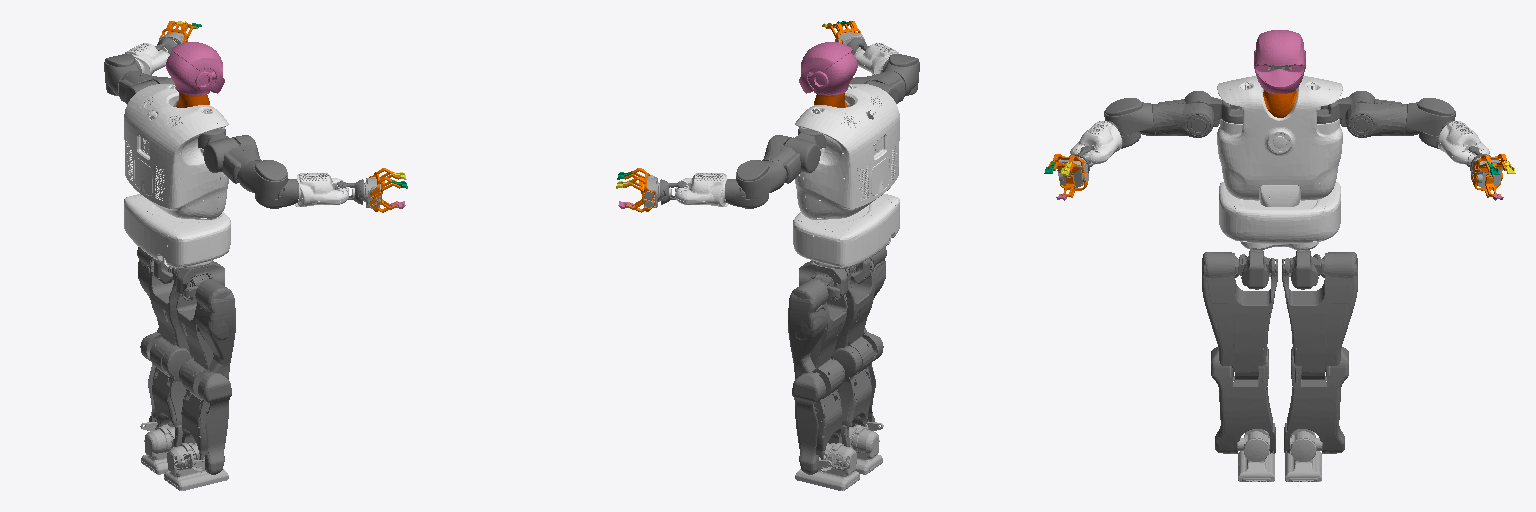
--- What the picture shows (computed from the rendered views, not written in the file) ---
The picture shows the robot from 3 angles, left to right: view 1: azimuth 30°, elevation 25°; view 2: azimuth 150°, elevation 25°; view 3: azimuth 270°, elevation 25°; orthographic projection.
Model talos_simplified with 69 links and 68 joints (30 revolute, 37 fixed, 1 floating), rooted at world, posed all joints at 0 but 4 set to mid-range because 0 is outside their limits (arm_left_2_joint = 1.44, arm_left_4_joint = -1.12, arm_right_2_joint = -1.44, arm_right_4_joint = -1.12).
Links seen in each view (by area): view 1: torso_2_link, base_link, leg_right_3_link, leg_right_4_link, leg_left_4_link, leg_left_3_link, head_2_link, leg_right_6_link, arm_right_3_link, arm_right_5_link, arm_right_1_link, leg_left_6_link (+6 smaller); view 2: torso_2_link, base_link, leg_left_3_link, leg_left_4_link, leg_right_4_link, leg_right_3_link, head_2_link, leg_left_6_link, arm_left_3_link, arm_left_5_link, arm_left_1_link, leg_right_6_link (+6 smaller); view 3: torso_2_link, leg_right_3_link, leg_left_3_link, base_link, leg_left_4_link, leg_right_4_link, head_2_link, arm_left_2_link, arm_right_2_link, arm_left_3_link, arm_right_3_link, leg_left_6_link (+9 smaller).
Link boxes in pixels (left/top/right/bottom): torso_2_link: left=124, top=84, right=228, bottom=219; base_link: left=124, top=194, right=230, bottom=268; leg_right_3_link: left=176, top=279, right=235, bottom=398; leg_right_4_link: left=179, top=358, right=231, bottom=474; leg_left_4_link: left=140, top=332, right=192, bottom=446; leg_left_3_link: left=137, top=247, right=189, bottom=374; head_2_link: left=166, top=42, right=224, bottom=95; leg_right_6_link: left=164, top=443, right=228, bottom=490; arm_right_3_link: left=239, top=160, right=287, bottom=199; arm_right_5_link: left=295, top=173, right=348, bottom=206; arm_right_1_link: left=198, top=129, right=238, bottom=172; leg_left_6_link: left=141, top=426, right=171, bottom=474; torso_2_link: left=795, top=84, right=899, bottom=219; base_link: left=793, top=194, right=899, bottom=268; leg_left_3_link: left=788, top=279, right=847, bottom=398; leg_left_4_link: left=792, top=358, right=844, bottom=474; leg_right_4_link: left=831, top=332, right=883, bottom=446; leg_right_3_link: left=835, top=247, right=886, bottom=374; head_2_link: left=799, top=42, right=857, bottom=95; leg_left_6_link: left=795, top=443, right=859, bottom=490; arm_left_3_link: left=736, top=160, right=784, bottom=198; arm_left_5_link: left=675, top=173, right=728, bottom=206; arm_left_1_link: left=785, top=129, right=825, bottom=172; leg_right_6_link: left=852, top=426, right=882, bottom=474; torso_2_link: left=1217, top=76, right=1342, bottom=200; leg_right_3_link: left=1202, top=252, right=1277, bottom=379; leg_left_3_link: left=1282, top=252, right=1357, bottom=379; base_link: left=1219, top=182, right=1340, bottom=250; leg_left_4_link: left=1284, top=347, right=1348, bottom=453; leg_right_4_link: left=1211, top=347, right=1275, bottom=453; head_2_link: left=1254, top=30, right=1305, bottom=93; arm_left_2_link: left=1345, top=99, right=1406, bottom=137; arm_right_2_link: left=1153, top=99, right=1214, bottom=137; arm_left_3_link: left=1404, top=98, right=1455, bottom=135; arm_right_3_link: left=1104, top=98, right=1155, bottom=135; leg_left_6_link: left=1285, top=429, right=1321, bottom=481.
Size in the robot's own frame: 0.7079 by 1.7 by 1.76 metres.
48 mesh visuals loaded from 25 distinct referenced files (25 Collada DAE).

The robot description file, URDF, robot "talos_simplified":
<?xml version="1.0" ?>
<!-- =================================================================================== -->
<!-- |    This document was autogenerated by xacro from talos_full_no_grippers.urdf.xacro | -->
<!-- |    EDITING THIS FILE BY HAND IS NOT RECOMMENDED                                 | -->
<!-- =================================================================================== -->
<!--

  Copyright (c) 2016, PAL Robotics, S.L.
  All rights reserved.

  This work is licensed under the Creative Commons Attribution-NonCommercial-NoDerivs 3.0 Unported License.
  To view a copy of this license, visit http://creativecommons.org/licenses/by-nc-nd/3.0/ or send a letter to
  Creative Commons, 444 Castro Street, Suite 900, Mountain View, California, 94041, USA.
-->
<robot name="talos_simplified" xmlns:controller="http://playerstage.sourceforge.net/gazebo/xmlschema/#controller" xmlns:interface="http://playerstage.sourceforge.net/gazebo/xmlschema/#interface" xmlns:sensor="http://playerstage.sourceforge.net/gazebo/xmlschema/#sensor" xmlns:xacro="http://ros.org/wiki/xacro">

  <link name="world"/>
  <joint name="reference" type="floating">
    <parent link="world"/>
    <child link="base_link"/>
    <origin rpy="0 0 0" xyz="0 0 0"/>
  </joint>
  <!--************************-->
  <!--        TORSO_2  (TILT) -->
  <!--************************-->
  <link name="torso_2_link">
    <inertial>
      <mass value="16.97403"/>
      <inertia ixx="0.44372633826" ixy="0.00069132133" ixz="-0.01218206353" iyy="0.2998576068" iyz="-0.00019623338" izz="0.32201554742"/>
      <origin rpy="0 0 0" xyz="-0.0463563 -0.00099023 0.1452805"/>
    </inertial>
    <visual>
      <origin rpy="0 0 0" xyz="0 0 0"/>
      <geometry>
        <mesh filename="package://talos_description/meshes/torso/torso_2.dae" scale="1 1 1"/>
      </geometry>
      <material name="LightGrey"/>
    </visual>
    <collision>
      <origin rpy="0 0 0" xyz="0 0 0"/>
      <geometry>
        <mesh filename="package://talos_description/meshes/torso/torso_2_collision.dae" scale="1 1 1"/>
      </geometry>
    </collision>
  </link>
  <!--************************-->
  <!--        TORSO_1  (PAN)  -->
  <!--************************-->
  <link name="torso_1_link">
    <inertial>
      <mass value="2.294658"/>
      <inertia ixx="0.00638508087" ixy="-7.107e-08" ixz="-3.065592e-05" iyy="0.00410256102" iyz="-1.46946e-06" izz="0.00622968815"/>
      <origin rpy="0 0 0" xyz="0.00078223 3.528e-05 -0.01782457"/>
    </inertial>
    <visual>
      <origin rpy="0 0 0" xyz="0 0 0"/>
      <geometry>
        <mesh filename="package://talos_description/meshes/torso/torso_1.dae" scale="1 1 1"/>
      </geometry>
      <material name="LightGrey"/>
    </visual>
    <collision>
      <origin rpy="0 0 0" xyz="0 0 0"/>
      <geometry>
        <mesh filename="package://talos_description/meshes/torso/torso_1.dae" scale="1 1 1"/>
      </geometry>
    </collision>
  </link>
  <joint name="torso_1_joint" type="revolute">
    <parent link="base_link"/>
    <child link="torso_1_link"/>
    <!-- XXX AS: The kinematic chain order for the torso was reversed manually. This value does not match the CAD model. XXX -->
    <origin rpy="0.0 0.0 0.0" xyz="0.0 0.0 0.0722"/>
    <axis xyz="0 0 1"/>
    <limit effort="200.0" lower="-1.25663706144" upper="1.25663706144" velocity="5.4"/>
    <dynamics damping="1.0" friction="1.0"/>
    <!-- <safety_controller k_position="20"
                         k_velocity="20"
                         soft_lower_limit="${-15.0 * deg_to_rad + torso_eps}"
                         soft_upper_limit="${ 45.0 * deg_to_rad - torso_eps}" /> -->
  </joint>
  <!--************************-->
  <!--        BASE_LINK       -->
  <!--************************-->
  <link name="base_link">
    <inertial>
      <mass value="15.36284"/>
      <inertia ixx="0.20105075811" ixy="0.00023244734" ixz="0.0040167728" iyy="0.08411496729" iyz="-0.00087206649" izz="0.2318908414"/>
      <origin rpy="0 0 0" xyz="-0.05709419 0.00153054 -0.0762521"/>
    </inertial>
    <visual>
      <origin rpy="0 0 0" xyz="0 0 0"/>
      <geometry>
        <mesh filename="package://talos_description/meshes/torso/base_link.dae" scale="1 1 1"/>
      </geometry>
      <material name="LightGrey"/>
    </visual>
    <collision>
      <origin rpy="0 0 0" xyz="0 0 0"/>
      <geometry>
        <mesh filename="package://talos_description/meshes/torso/base_link_collision.dae" scale="1 1 1"/>
      </geometry>
    </collision>
  </link>
  <joint name="torso_2_joint" type="revolute">
    <parent link="torso_1_link"/>
    <child link="torso_2_link"/>
    <origin rpy="0.0 0.0 0.0" xyz="0.0 0.0 0.0"/>
    <axis xyz="0 1 0"/>
    <limit effort="200.0" lower="-0.226892802759" upper="0.733038285838" velocity="5.4"/>
    <dynamics damping="1.0" friction="1.0"/>
    <!-- <safety_controller k_position="20"
                          k_velocity="20"
                          soft_lower_limit="${-75.00000 * deg_to_rad + eps_radians}"
                          soft_upper_limit="${75.00000 * deg_to_rad - eps_radians}" /> -->
  </joint>
  <link name="imu_link">
    <inertial>
      <mass value="0.01"/>
      <inertia ixx="1e-06" ixy="0" ixz="0" iyy="1e-06" iyz="0" izz="1e-06"/>
      <origin rpy="0 0 0" xyz="0 0 0"/>
    </inertial>
    <visual>
      <origin rpy="0 0 0" xyz="0 0 0"/>
      <geometry>
        <box size="0.01 0.01 0.01"/>
      </geometry>
    </visual>
  </link>
  <joint name="imu_joint" type="fixed">
    <origin rpy="3.14159265359 0 1.57079632679" xyz="0.04925 0 0.078"/>
    <parent link="torso_2_link"/>
    <child link="imu_link"/>
  </joint>






  <link name="head_1_link">
    <inertial>
      <mass value="0.73746"/>
      <inertia ixx="0.00224878584" ixy="4.69375e-06" ixz="8.55557e-05" iyy="0.00111158492" iyz="-4.132536e-05" izz="0.00205225921"/>
      <origin rpy="0 0 0" xyz="-0.00157211 -0.00157919 0.02175767"/>
    </inertial>
    <visual>
      <origin rpy="0 0 0" xyz="0 0 0"/>
      <geometry>
        <mesh filename="package://talos_description/meshes/head/head_1.dae" scale="1 1 1"/>
      </geometry>
      <color rgba="0.8 0.0 0.0 1.0"/>
    </visual>
    <collision>
      <origin rpy="0 0 0" xyz="0 0 0"/>
      <geometry>
        <mesh filename="package://talos_description/meshes/head/head_1_collision.dae" scale="1 1 1"/>
      </geometry>
    </collision>
  </link>
  <joint name="head_1_joint" type="revolute">
    <parent link="torso_2_link"/>
    <child link="head_1_link"/>
    <origin rpy="0.0 0.0 0.0" xyz="0.02000 0.00000 0.32100"/>
    <axis xyz="0 1 0"/>
    <limit effort="8.0" lower="-0.209439510239" upper="0.785398163397" velocity="3.0"/>
    <dynamics damping="0.5" friction="1.0"/>
    <!-- <safety_controller k_position="20"
                          k_velocity="20"
                          soft_lower_limit="${-15.00000 * deg_to_rad + eps_radians}"
                          soft_upper_limit="${45.00000 * deg_to_rad - eps_radians}" /> -->
  </joint>



  <link name="head_2_link">
    <inertial>
      <mass value="1.443954"/>
      <inertia ixx="0.01084624339" ixy="1.050889e-05" ixz="0.00041594252" iyy="0.0109569176" iyz="2.367831e-05" izz="0.00571698895"/>
      <origin rpy="0 0 0" xyz="0.01002657 5.218e-05 0.14136068"/>
    </inertial>
    <visual>
      <origin rpy="0 0 0" xyz="0 0 0"/>
      <geometry>
        <mesh filename="package://talos_description/meshes/head/head_2.dae" scale="1 1 1"/>
      </geometry>
      <color rgba="0.8 0.0 0.0 1.0"/>
    </visual>
    <collision>
      <origin rpy="0 0 0" xyz="0 0 0"/>
      <geometry>
        <mesh filename="package://talos_description/meshes/head/head_2_collision.dae" scale="1 1 1"/>
      </geometry>
    </collision>
  </link>
  <joint name="head_2_joint" type="revolute">
    <parent link="head_1_link"/>
    <child link="head_2_link"/>
    <origin rpy="0.0 0.0 0.0" xyz="0.00000 0.00000 0.00000"/>
    <axis xyz="0 0 1"/>
    <limit effort="4.0" lower="-1.308996939" upper="1.308996939" velocity="3.0"/>
    <dynamics damping="0.5" friction="1.0"/>
    <!-- <safety_controller k_position="20"
                          k_velocity="20"
                          soft_lower_limit="${-75.00000 * deg_to_rad + eps_radians}"
                          soft_upper_limit="${75.00000 * deg_to_rad - eps_radians}" /> -->
  </joint>



  <!-- frames in the center of the camera -->
  <joint name="rgbd_joint" type="fixed">
    <origin rpy="0.0 0.0 0.0" xyz="0.066 0.0 0.1982"/>
    <axis xyz="0 0 1"/>
    <!-- <limit lower="0" upper="0.001" effort="100" velocity="0.01"/> -->
    <parent link="head_2_link"/>
    <child link="rgbd_link"/>
  </joint>
  <link name="rgbd_link">
    <inertial>
      <mass value="0.01"/>
      <inertia ixx="3e-05" ixy="0" ixz="0" iyy="2e-06" iyz="0" izz="3e-05"/>
      <origin rpy="0 0 0" xyz="-0.01 0.0025 0"/>
    </inertial>
    <visual>
      <origin rpy="0 0 0" xyz="0 0 0"/>
      <geometry>
        <mesh filename="package://talos_description/meshes/sensors/orbbec/orbbec.dae"/>
      </geometry>
      <material name="DarkGrey">
        <color rgba="0.5 0.5 0.5 1"/>
      </material>
    </visual>
    <collision>
      <origin rpy="0 0 0" xyz="-0.01 0.0025 0"/>
      <geometry>
        <box size="0.04 0.185 0.03"/>
      </geometry>
    </collision>
  </link>
  <joint name="rgbd_optical_joint" type="fixed">
    <origin rpy="-1.57079632679 0 -1.57079632679" xyz="0 0 0"/>
    <parent link="rgbd_link"/>
    <child link="rgbd_optical_frame"/>
  </joint>
  <link name="rgbd_optical_frame">
    <inertial>
      <mass value="0.01"/>
      <inertia ixx="0" ixy="0" ixz="0" iyy="0" iyz="0" izz="0"/>
      <origin rpy="0 0 0" xyz="0 0 0"/>
    </inertial>
  </link>
  <!-- frames of the depth sensor -->
  <joint name="rgbd_depth_joint" type="fixed">
    <origin rpy="0 0 0" xyz="0.0 0.03751 0.0"/>
    <parent link="rgbd_link"/>
    <child link="rgbd_depth_frame"/>
  </joint>
  <link name="rgbd_depth_frame"/>
  <joint name="rgbd_depth_optical_joint" type="fixed">
    <origin rpy="-1.57079632679 0.0 -1.57079632679" xyz="0 0 0"/>
    <parent link="rgbd_depth_frame"/>
    <child link="rgbd_depth_optical_frame"/>
  </joint>
  <link name="rgbd_depth_optical_frame"/>
  <!-- frames of the rgb sensor -->
  <joint name="rgbd_rgb_joint" type="fixed">
    <origin rpy="0 0 0" xyz="0.0 0.01251 0.0"/>
    <parent link="rgbd_link"/>
    <child link="rgbd_rgb_frame"/>
  </joint>
  <link name="rgbd_rgb_frame"/>
  <joint name="rgbd_rgb_optical_joint" type="fixed">
    <origin rpy="-1.57079632679 0.0 -1.57079632679" xyz="0 0 0"/>
    <parent link="rgbd_rgb_frame"/>
    <child link="rgbd_rgb_optical_frame"/>
  </joint>
  <link name="rgbd_rgb_optical_frame"/>


  <!--************************-->
  <!--        SHOULDER        -->
  <!--************************-->
  <link name="arm_left_1_link">
    <inertial>
      <mass value="2.714567"/>
      <inertia ixx="0.01237818683" ixy="-3.625571e-05" ixz="7.14472e-05" iyy="0.004191372" iyz="-0.00023639064" izz="0.01358161109"/>
      <origin rpy="0 0 0" xyz="-0.0002762 0.10060223 0.04437419"/>
    </inertial>
    <visual>
      <origin rpy="0 0 0" xyz="0 0 0"/>
      <geometry>
        <mesh filename="package://talos_description/meshes/arm/arm_1.dae" scale="1 1 1"/>
      </geometry>
      <material name="DarkGrey"/>
    </visual>
    <collision>
      <origin rpy="0 0 0" xyz="0 0 0"/>
      <geometry>
        <mesh filename="package://talos_description/meshes/arm/arm_1_collision.dae" scale="1 1 1"/>
      </geometry>
    </collision>
  </link>
  <joint name="arm_left_1_joint" type="revolute">
    <parent link="torso_2_link"/>
    <child link="arm_left_1_link"/>
    <origin rpy="0.0 0.0 0.0" xyz="0.00000 0.1575 0.23200"/>
    <axis xyz="0 0 1"/>
    <!-- v1 TALOS has 1st arm left joint (-90,30) and right joint (-30,90) -->
    <!-- v2 TALOS has 1st arm left joint (-90,50) and right joint (-50,90) -->
    <limit effort="100.0" lower="-1.57079632679" upper="0.785398163397" velocity="2.7"/>
    <dynamics damping="1.0" friction="1.0"/>
    <!--        <safety_controller k_position="20"
                          k_velocity="20"
                          soft_lower_limit="${-90.00000 * deg_to_rad + arm_eps}"
                          soft_upper_limit="${30.00000 * deg_to_rad - arm_eps}" /> -->
  </joint>
  <link name="arm_left_2_link">
    <inertial>
      <mass value="2.425086"/>
      <inertia ixx="0.01297822101" ixy="1.208791e-05" ixz="-0.00320370433" iyy="0.01380870278" iyz="-0.00012770059" izz="0.00478856621"/>
      <origin rpy="0 0 0" xyz="0.01438831 0.00092938 -0.08684268"/>
    </inertial>
    <visual>
      <origin rpy="0 0 0" xyz="0 0 0"/>
      <geometry>
        <mesh filename="package://talos_description/meshes/arm/arm_2.dae" scale="1 1 1"/>
      </geometry>
      <material name="DarkGrey"/>
    </visual>
    <collision>
      <origin rpy="0 0 0" xyz="0 0 0"/>
      <geometry>
        <mesh filename="package://talos_description/meshes/arm/arm_2_collision.dae" scale="1 1 1"/>
      </geometry>
    </collision>
  </link>
  <joint name="arm_left_2_joint" type="revolute">
    <parent link="arm_left_1_link"/>
    <child link="arm_left_2_link"/>
    <origin rpy="0.0 0.0 0.0" xyz="0.00493 0.1365 0.04673"/>
    <axis xyz="1 0 0"/>
    <limit effort="100.0" lower="0.00872664625997" upper="2.87106661953" velocity="3.66"/>
    <dynamics damping="1.0" friction="1.0"/>
    <!--        <safety_controller k_position="20"
                          k_velocity="20"
                          soft_lower_limit="${0.00000 * deg_to_rad + arm_eps}"
                          soft_upper_limit="${165.00000 * deg_to_rad - arm_eps}" /> -->
  </joint>
  <link name="arm_left_3_link">
    <inertial>
      <mass value="2.208741"/>
      <inertia ixx="0.00718831493" ixy="-0.00011563551" ixz="0.00075969733" iyy="0.00693528503" iyz="0.00042134743" izz="0.00388359007"/>
      <origin rpy="0 0 0" xyz="0.0136084 0.01241619 -0.2499004"/>
    </inertial>
    <visual>
      <origin rpy="0 0 0" xyz="0 0 0"/>
      <geometry>
        <mesh filename="package://talos_description/meshes/arm/arm_3.dae" scale="1 1 1"/>
      </geometry>
      <material name="DarkGrey"/>
    </visual>
    <collision>
      <origin rpy="0 0 0" xyz="0 0 0"/>
      <geometry>
        <mesh filename="package://talos_description/meshes/arm/arm_3_collision.dae" scale="1 1 1"/>
      </geometry>
    </collision>
  </link>
  <joint name="arm_left_3_joint" type="revolute">
    <parent link="arm_left_2_link"/>
    <child link="arm_left_3_link"/>
    <origin rpy="0.0 0.0 0.0" xyz="0.00000 0.00000 0.00000"/>
    <axis xyz="0 0 1"/>
    <limit effort="70.0" lower="-2.42600766027" upper="2.42600766027" velocity="4.58"/>
    <dynamics damping="1.0" friction="1.0"/>
    <!--       <safety_controller k_position="20"
                          k_velocity="20"
                          soft_lower_limit="${-140.0 * deg_to_rad + arm_eps}"
                          soft_upper_limit="${140.0 * deg_to_rad - arm_eps}" /> -->
  </joint>
  <!--************************-->
  <!--        ELBOW           -->
  <!--************************-->
  <link name="arm_left_4_link">
    <inertial>
      <mass value="0.877346"/>
      <inertia ixx="0.00251207716" ixy="0.00010070062" ixz="-0.00032788214" iyy="0.00275869324" iyz="0.00040022227" izz="0.00120735959"/>
      <origin rpy="0 0 0" xyz="-0.00742138 -0.0213895 -0.03312656"/>
    </inertial>
    <visual>
      <origin rpy="0 0 0" xyz="0 0 0"/>
      <geometry>
        <mesh filename="package://talos_description/meshes/arm/arm_4.dae" scale="1 1 1"/>
      </geometry>
      <material name="DarkGrey"/>
    </visual>
    <collision>
      <origin rpy="0 0 0" xyz="0 0 0"/>
      <geometry>
        <mesh filename="package://talos_description/meshes/arm/arm_4_collision.dae" scale="1 1 1"/>
      </geometry>
    </collision>
  </link>
  <joint name="arm_left_4_joint" type="revolute">
    <parent link="arm_left_3_link"/>
    <child link="arm_left_4_link"/>
    <origin rpy="0.0 0.0 0.0" xyz="0.02000 0.00000 -0.27300"/>
    <axis xyz="0 1 0"/>
    <limit effort="70.0" lower="-2.23402144255" upper="-0.00349065850399" velocity="4.58"/>
    <dynamics damping="1.0" friction="1.0"/>
    <!--       <safety_controller k_position="20"
                          k_velocity="20"
                          soft_lower_limit="${-135.0 * deg_to_rad + arm_eps}"
                          soft_upper_limit="${0.0 * deg_to_rad - arm_eps}" /> -->
  </joint>








  <!--************************-->
  <!--        WRIST           -->
  <!--************************-->
  <link name="arm_left_5_link">
    <inertial>
      <mass value="1.877923"/>
      <inertia ixx="0.00349507283" ixy="1.265489e-05" ixz="1.038286e-05" iyy="0.00436830072" iyz="-9.736042e-05" izz="0.0022826337"/>
      <origin rpy="0 0 0" xyz="-6e-05 0.003262 0.079625"/>
    </inertial>
    <visual>
      <origin rpy="0 0 0" xyz="0 0 0"/>
      <geometry>
        <mesh filename="package://talos_description/meshes/arm/arm_5.dae" scale="1 1 1"/>
      </geometry>
      <material name="LightGrey"/>
    </visual>
    <collision>
      <origin rpy="0 0 0" xyz="0 0 0"/>
      <geometry>
        <mesh filename="package://talos_description/meshes/arm/arm_5_collision.dae" scale="1 1 1"/>
      </geometry>
    </collision>
  </link>
  <joint name="arm_left_5_joint" type="revolute">
    <parent link="arm_left_4_link"/>
    <child link="arm_left_5_link"/>
    <origin rpy="0.0 0.0 0.0" xyz="-0.02000 0.00000 -0.26430"/>
    <axis xyz="0 0 1"/>
    <limit effort="20.0" lower="-2.51327412287" upper="2.51327412287" velocity="1.95"/>
    <dynamics damping="1.0" friction="1.0"/>
    <!--       <safety_controller k_position="20"
                          k_velocity="20"
                          soft_lower_limit="${-145.00000 * deg_to_rad + wrist_eps}"
                          soft_upper_limit="${145.00000 * deg_to_rad - wrist_eps}" /> -->
  </joint>
  <link name="arm_left_6_link">
    <inertial>
      <mass value="0.40931"/>
      <inertia ixx="0.00010700023" ixy="-8.899e-08" ixz="-4.392e-08" iyy="0.00014101316" iyz="4.1702e-07" izz="0.00015398658"/>
      <origin rpy="0 0 0" xyz="2.1e-05 -0.001965 -0.000591"/>
    </inertial>
    <visual>
      <origin rpy="0 0 0" xyz="0 0 0"/>
      <geometry>
        <mesh filename="package://talos_description/meshes/arm/arm_6.dae" scale="1 1 1"/>
      </geometry>
      <material name="LightGrey"/>
    </visual>
    <collision>
      <origin rpy="0 0 0" xyz="0 0 0"/>
      <geometry>
        <mesh filename="package://talos_description/meshes/arm/arm_6_collision.dae" scale="1 1 1"/>
      </geometry>
    </collision>
  </link>
  <joint name="arm_left_6_joint" type="revolute">
    <parent link="arm_left_5_link"/>
    <child link="arm_left_6_link"/>
    <origin rpy="0.0 0.0 0.0" xyz="0.00000 0.00000 0.00000"/>
    <axis xyz="1 0 0"/>
    <limit effort="8.0" lower="-1.37008346282" upper="1.37008346282" velocity="1.76"/>
    <dynamics damping="1.0" friction="1.0"/>
    <!--       <safety_controller k_position="20"
                          k_velocity="20"
                          soft_lower_limit="${-80.00000 * deg_to_rad + eps_radians}"
                          soft_upper_limit="${80.00000 * deg_to_rad - eps_radians}" /> -->
  </joint>
  <link name="arm_left_7_link">
    <inertial>
      <mass value="0.308441"/>
      <inertia ixx="0.00030894317" ixy="-1.58687e-06" ixz="1.73418e-06" iyy="0.00021886181" iyz="-1.221167e-05" izz="0.00017519492"/>
      <origin rpy="0 0 0" xyz="0.007525 0.001378 -0.02463"/>
    </inertial>
    <visual>
      <origin rpy="0 0 0" xyz="0 0 0"/>
      <geometry>
        <mesh filename="package://talos_description/meshes/arm/arm_7.dae" scale="1 1 1"/>
      </geometry>
      <material name="DarkGrey"/>
    </visual>
    <collision>
      <origin rpy="0 0 0" xyz="0 0 0"/>
      <geometry>
        <mesh filename="package://talos_description/meshes/arm/arm_7_collision.dae" scale="1 1 1"/>
      </geometry>
    </collision>
  </link>
  <joint name="arm_left_7_joint" type="revolute">
    <parent link="arm_left_6_link"/>
    <child link="arm_left_7_link"/>
    <origin rpy="0.0 0.0 0.0" xyz="0.0 0.0 0.0"/>
    <axis xyz="0 1 0"/>
    <limit effort="8.0" lower="-0.680678408278" upper="0.680678408278" velocity="1.76"/>
    <dynamics damping="1.0" friction="1.0"/>
    <!--       <safety_controller k_position="20"
                          k_velocity="20"
                          soft_lower_limit="${-40.00000 * deg_to_rad + eps_radians}"
                          soft_upper_limit="${40.00000 * deg_to_rad - eps_radians}" /> -->
  </joint>












  <!--************************-->
  <!--        SHOULDER        -->
  <!--************************-->
  <link name="arm_right_1_link">
    <inertial>
      <mass value="2.714567"/>
      <inertia ixx="0.01237818683" ixy="3.625571e-05" ixz="7.14472e-05" iyy="0.004191372" iyz="0.00023639064" izz="0.01358161109"/>
      <origin rpy="0 0 0" xyz="-0.0002762 -0.10060223 0.04437419"/>
    </inertial>
    <visual>
      <origin rpy="0 0 0" xyz="0 0 0"/>
      <geometry>
        <mesh filename="package://talos_description/meshes/arm/arm_1.dae" scale="1 -1 1"/>
      </geometry>
      <material name="DarkGrey"/>
    </visual>
    <collision>
      <origin rpy="0 0 0" xyz="0 0 0"/>
      <geometry>
        <mesh filename="package://talos_description/meshes/arm/arm_1_collision.dae" scale="1 -1 1"/>
      </geometry>
    </collision>
  </link>
  <joint name="arm_right_1_joint" type="revolute">
    <parent link="torso_2_link"/>
    <child link="arm_right_1_link"/>
    <origin rpy="0.0 0.0 0.0" xyz="0.00000 -0.1575 0.23200"/>
    <axis xyz="0 0 1"/>
    <!-- v1 TALOS has 1st arm left joint (-90,30) and right joint (-30,90) -->
    <!-- v2 TALOS has 1st arm left joint (-90,50) and right joint (-50,90) -->
    <limit effort="100.0" lower="-0.785398163397" upper="1.57079632679" velocity="2.7"/>
    <dynamics damping="1.0" friction="1.0"/>
    <!--        <safety_controller k_position="20"
                          k_velocity="20"
                          soft_lower_limit="${-90.00000 * deg_to_rad + arm_eps}"
                          soft_upper_limit="${30.00000 * deg_to_rad - arm_eps}" /> -->
  </joint>
  <link name="arm_right_2_link">
    <inertial>
      <mass value="2.425086"/>
      <inertia ixx="0.01297822101" ixy="-1.208791e-05" ixz="-0.00320370433" iyy="0.01380870278" iyz="0.00012770059" izz="0.00478856621"/>
      <origin rpy="0 0 0" xyz="0.01438831 -0.00092938 -0.08684268"/>
    </inertial>
    <visual>
      <origin rpy="0 0 0" xyz="0 0 0"/>
      <geometry>
        <mesh filename="package://talos_description/meshes/arm/arm_2.dae" scale="1 -1 1"/>
      </geometry>
      <material name="DarkGrey"/>
    </visual>
    <collision>
      <origin rpy="0 0 0" xyz="0 0 0"/>
      <geometry>
        <mesh filename="package://talos_description/meshes/arm/arm_2_collision.dae" scale="1 -1 1"/>
      </geometry>
    </collision>
  </link>
  <joint name="arm_right_2_joint" type="revolute">
    <parent link="arm_right_1_link"/>
    <child link="arm_right_2_link"/>
    <origin rpy="0.0 0.0 0.0" xyz="0.00493 -0.1365 0.04673"/>
    <axis xyz="1 0 0"/>
    <limit effort="100.0" lower="-2.87106661953" upper="-0.00872664625997" velocity="3.66"/>
    <dynamics damping="1.0" friction="1.0"/>
    <!--        <safety_controller k_position="20"
                          k_velocity="20"
                          soft_lower_limit="${0.00000 * deg_to_rad + arm_eps}"
                          soft_upper_limit="${165.00000 * deg_to_rad - arm_eps}" /> -->
  </joint>
  <link name="arm_right_3_link">
    <inertial>
      <mass value="2.208741"/>
      <inertia ixx="0.00718831493" ixy="0.00011563551" ixz="0.00075969733" iyy="0.00693528503" iyz="-0.00042134743" izz="0.00388359007"/>
      <origin rpy="0 0 0" xyz="0.0136084 -0.01241619 -0.2499004"/>
    </inertial>
    <visual>
      <origin rpy="0 0 0" xyz="0 0 0"/>
      <geometry>
        <mesh filename="package://talos_description/meshes/arm/arm_3.dae" scale="1 -1 1"/>
      </geometry>
      <material name="DarkGrey"/>
    </visual>
    <collision>
      <origin rpy="0 0 0" xyz="0 0 0"/>
      <geometry>
        <mesh filename="package://talos_description/meshes/arm/arm_3_collision.dae" scale="1 -1 1"/>
      </geometry>
    </collision>
  </link>
  <joint name="arm_right_3_joint" type="revolute">
    <parent link="arm_right_2_link"/>
    <child link="arm_right_3_link"/>
    <origin rpy="0.0 0.0 0.0" xyz="0.00000 0.00000 0.00000"/>
    <axis xyz="0 0 1"/>
    <limit effort="70.0" lower="-2.42600766027" upper="2.42600766027" velocity="4.58"/>
    <dynamics damping="1.0" friction="1.0"/>
    <!--       <safety_controller k_position="20"
                          k_velocity="20"
                          soft_lower_limit="${-140.0 * deg_to_rad + arm_eps}"
                          soft_upper_limit="${140.0 * deg_to_rad - arm_eps}" /> -->
  </joint>
  <!--************************-->
  <!--        ELBOW           -->
  <!--************************-->
  <link name="arm_right_4_link">
    <inertial>
      <mass value="0.877346"/>
      <inertia ixx="0.00251207716" ixy="-0.00010070062" ixz="-0.00032788214" iyy="0.00275869324" iyz="-0.00040022227" izz="0.00120735959"/>
      <origin rpy="0 0 0" xyz="-0.00742138 0.0213895 -0.03312656"/>
    </inertial>
    <visual>
      <origin rpy="0 0 0" xyz="0 0 0"/>
      <geometry>
        <mesh filename="package://talos_description/meshes/arm/arm_4.dae" scale="1 -1 1"/>
      </geometry>
      <material name="DarkGrey"/>
    </visual>
    <collision>
      <origin rpy="0 0 0" xyz="0 0 0"/>
      <geometry>
        <mesh filename="package://talos_description/meshes/arm/arm_4_collision.dae" scale="1 -1 1"/>
      </geometry>
    </collision>
  </link>
  <joint name="arm_right_4_joint" type="revolute">
    <parent link="arm_right_3_link"/>
    <child link="arm_right_4_link"/>
    <origin rpy="0.0 0.0 0.0" xyz="0.02000 0.00000 -0.27300"/>
    <axis xyz="0 1 0"/>
    <limit effort="70.0" lower="-2.23402144255" upper="-0.00349065850399" velocity="4.58"/>
    <dynamics damping="1.0" friction="1.0"/>
    <!--       <safety_controller k_position="20"
                          k_velocity="20"
                          soft_lower_limit="${-135.0 * deg_to_rad + arm_eps}"
                          soft_upper_limit="${0.0 * deg_to_rad - arm_eps}" /> -->
  </joint>








  <!--************************-->
  <!--        WRIST           -->
  <!--************************-->
  <link name="arm_right_5_link">
    <inertial>
      <mass value="1.877923"/>
      <inertia ixx="0.00349507283" ixy="-1.265489e-05" ixz="1.038286e-05" iyy="0.00436830072" iyz="9.736042e-05" izz="0.0022826337"/>
      <origin rpy="0 0 0" xyz="-6e-05 -0.003262 0.079625"/>
    </inertial>
    <visual>
      <origin rpy="0 0 0" xyz="0 0 0"/>
      <geometry>
        <mesh filename="package://talos_description/meshes/arm/arm_5.dae" scale="1 -1 1"/>
      </geometry>
      <material name="LightGrey"/>
    </visual>
    <collision>
      <origin rpy="0 0 0" xyz="0 0 0"/>
      <geometry>
        <mesh filename="package://talos_description/meshes/arm/arm_5_collision.dae" scale="1 -1 1"/>
      </geometry>
    </collision>
  </link>
  <joint name="arm_right_5_joint" type="revolute">
    <parent link="arm_right_4_link"/>
    <child link="arm_right_5_link"/>
    <origin rpy="0.0 0.0 0.0" xyz="-0.02000 0.00000 -0.26430"/>
    <axis xyz="0 0 1"/>
    <limit effort="20.0" lower="-2.51327412287" upper="2.51327412287" velocity="1.95"/>
    <dynamics damping="1.0" friction="1.0"/>
    <!--       <safety_controller k_position="20"
                          k_velocity="20"
                          soft_lower_limit="${-145.00000 * deg_to_rad + wrist_eps}"
                          soft_upper_limit="${145.00000 * deg_to_rad - wrist_eps}" /> -->
  </joint>
  <link name="arm_right_6_link">
    <inertial>
      <mass value="0.40931"/>
      <inertia ixx="0.00010700023" ixy="8.899e-08" ixz="-4.392e-08" iyy="0.00014101316" iyz="-4.1702e-07" izz="0.00015398658"/>
      <origin rpy="0 0 0" xyz="2.1e-05 0.001965 -0.000591"/>
    </inertial>
    <visual>
      <origin rpy="0 0 0" xyz="0 0 0"/>
      <geometry>
        <mesh filename="package://talos_description/meshes/arm/arm_6.dae" scale="1 -1 1"/>
      </geometry>
      <material name="LightGrey"/>
    </visual>
    <collision>
      <origin rpy="0 0 0" xyz="0 0 0"/>
      <geometry>
        <mesh filename="package://talos_description/meshes/arm/arm_6_collision.dae" scale="1 -1 1"/>
      </geometry>
    </collision>
  </link>
  <joint name="arm_right_6_joint" type="revolute">
    <parent link="arm_right_5_link"/>
    <child link="arm_right_6_link"/>
    <origin rpy="0.0 0.0 0.0" xyz="0.00000 0.00000 0.00000"/>
    <axis xyz="1 0 0"/>
    <limit effort="8.0" lower="-1.37008346282" upper="1.37008346282" velocity="1.76"/>
    <dynamics damping="1.0" friction="1.0"/>
    <!--       <safety_controller k_position="20"
                          k_velocity="20"
                          soft_lower_limit="${-80.00000 * deg_to_rad + eps_radians}"
                          soft_upper_limit="${80.00000 * deg_to_rad - eps_radians}" /> -->
  </joint>
  <link name="arm_right_7_link">
    <inertial>
      <mass value="0.308441"/>
      <inertia ixx="0.00030894317" ixy="1.58687e-06" ixz="1.73418e-06" iyy="0.00021886181" iyz="1.221167e-05" izz="0.00017519492"/>
      <origin rpy="0 0 0" xyz="0.007525 -0.001378 -0.02463"/>
    </inertial>
    <visual>
      <origin rpy="0 0 0" xyz="0 0 0"/>
      <geometry>
        <mesh filename="package://talos_description/meshes/arm/arm_7.dae" scale="1 -1 1"/>
      </geometry>
      <material name="DarkGrey"/>
    </visual>
    <collision>
      <origin rpy="0 0 0" xyz="0 0 0"/>
      <geometry>
        <mesh filename="package://talos_description/meshes/arm/arm_7_collision.dae" scale="1 -1 1"/>
      </geometry>
    </collision>
  </link>
  <joint name="arm_right_7_joint" type="revolute">
    <parent link="arm_right_6_link"/>
    <child link="arm_right_7_link"/>
    <origin rpy="0.0 0.0 0.0" xyz="0.0 0.0 0.0"/>
    <axis xyz="0 1 0"/>
    <limit effort="8.0" lower="-0.680678408278" upper="0.680678408278" velocity="1.76"/>
    <dynamics damping="1.0" friction="1.0"/>
    <!--       <safety_controller k_position="20"
                          k_velocity="20"
                          soft_lower_limit="${-40.00000 * deg_to_rad + eps_radians}"
                          soft_upper_limit="${40.00000 * deg_to_rad - eps_radians}" /> -->
  </joint>












  <!--************************-->
  <!--        ft sensor       -->
  <!--************************-->
  <link name="wrist_right_ft_link">
    <inertial>
      <mass value="0.095"/>
      <inertia ixx="1.108502e-05" ixy="9.9077e-07" ixz="-2.3811e-07" iyy="1.092725e-05" iyz="2.3137e-07" izz="1.898772e-05"/>
      <origin rpy="0 0 0" xyz="-0.001001 0.000995 -0.008108"/>
    </inertial>
    <visual>
      <origin rpy="0 0 0" xyz="0 0 0"/>
      <geometry>
        <cylinder length="0.0157" radius="0.0225"/>
      </geometry>
      <material name="LightGrey"/>
    </visual>
    <collision>
      <origin rpy="0 0 0" xyz="0 0 0"/>
      <geometry>
        <cylinder length="0.0157" radius="0.0225"/>
      </geometry>
    </collision>
  </link>
  <joint name="wrist_right_ft_joint" type="fixed">
    <parent link="arm_right_7_link"/>
    <child link="wrist_right_ft_link"/>
    <origin rpy="0.0 0 -1.57079632679" xyz="0 0 -0.051"/>
  </joint>
  <!--***********************-->
  <!--       FT TOOL         -->
  <!--***********************-->
  <link name="wrist_right_ft_tool_link">
    <inertial>
      <mass value="0.001"/>
      <inertia ixx="0" ixy="0" ixz="0" iyy="0" iyz="0" izz="0"/>
      <origin rpy="0 0 0" xyz="0 0 0"/>
    </inertial>
    <visual>
      <origin rpy="0 0.0 0" xyz="0.0 0 0"/>
      <geometry>
        <cylinder length="0.00975" radius="0.025"/>
      </geometry>
      <material name="FlatBlack"/>
    </visual>
    <collision>
      <origin rpy="0 0.0 0" xyz="0.0 0 0"/>
      <geometry>
        <cylinder length="0.00975" radius="0.025"/>
      </geometry>
    </collision>
  </link>
  <joint name="wrist_right_tool_joint" type="fixed">
    <parent link="wrist_right_ft_link"/>
    <child link="wrist_right_ft_tool_link"/>
    <origin rpy="0 0 -1.57079632679" xyz="0 0 -0.012725"/>
  </joint>
  <!--************************-->
  <!--        ft sensor       -->
  <!--************************-->
  <link name="wrist_left_ft_link">
    <inertial>
      <mass value="0.095"/>
      <inertia ixx="1.108502e-05" ixy="9.9077e-07" ixz="-2.3811e-07" iyy="1.092725e-05" iyz="2.3137e-07" izz="1.898772e-05"/>
      <origin rpy="0 0 0" xyz="-0.001001 0.000995 -0.008108"/>
    </inertial>
    <visual>
      <origin rpy="0 0 0" xyz="0 0 0"/>
      <geometry>
        <cylinder length="0.0157" radius="0.0225"/>
      </geometry>
      <material name="LightGrey"/>
    </visual>
    <collision>
      <origin rpy="0 0 0" xyz="0 0 0"/>
      <geometry>
        <cylinder length="0.0157" radius="0.0225"/>
      </geometry>
    </collision>
  </link>
  <joint name="wrist_left_ft_joint" type="fixed">
    <parent link="arm_left_7_link"/>
    <child link="wrist_left_ft_link"/>
    <origin rpy="0.0 0 -4.71238898038" xyz="0 0 -0.051"/>
  </joint>
  <!--***********************-->
  <!--       FT TOOL         -->
  <!--***********************-->
  <link name="wrist_left_ft_tool_link">
    <inertial>
      <mass value="0.001"/>
      <inertia ixx="0" ixy="0" ixz="0" iyy="0" iyz="0" izz="0"/>
      <origin rpy="0 0 0" xyz="0 0 0"/>
    </inertial>
    <visual>
      <origin rpy="0 0.0 0" xyz="0.0 0 0"/>
      <geometry>
        <cylinder length="0.00975" radius="0.025"/>
      </geometry>
      <material name="FlatBlack"/>
    </visual>
    <collision>
      <origin rpy="0 0.0 0" xyz="0.0 0 0"/>
      <geometry>
        <cylinder length="0.00975" radius="0.025"/>
      </geometry>
    </collision>
  </link>
  <joint name="wrist_left_tool_joint" type="fixed">
    <parent link="wrist_left_ft_link"/>
    <child link="wrist_left_ft_tool_link"/>
    <origin rpy="0 0 4.71238898038" xyz="0 0 -0.012725"/>
  </joint>
   <link name="gripper_left_base_link">
    <inertial>
      <mass value="0.637534"/>
      <inertia ixx="0.0005849692" ixy="4.37159e-06" ixz="-1.2589e-05" iyy="0.00067076439" iyz="2.824361e-05" izz="0.00085526645"/>
      <origin rpy="0 0 0" xyz="2.8e-05 0.005394 -0.023654"/>
    </inertial>
    <visual>
      <origin rpy="0 0 0" xyz="0 0 0"/>
      <geometry>
        <mesh filename="package://talos_description/meshes/gripper/base_link.dae" scale="1 1 1"/>
      </geometry>
      <material name="Black"/>
    </visual>
    <collision>
      <origin rpy="0 0 0" xyz="0 0 0"/>
      <geometry>
        <mesh filename="package://talos_description/meshes/gripper/base_link_collision.dae" scale="1 1 1"/>
      </geometry>
    </collision>
  </link>
  <joint name="gripper_left_base_link_joint" type="fixed">
    <parent link="wrist_left_ft_tool_link"/>
    <child link="gripper_left_base_link"/>
    <origin rpy="0.0 0.0 0.0" xyz="0.00000 0.00000 -0.02875"/>
    <axis xyz="0 0 0"/>
  </joint>
  <link name="gripper_left_motor_double_link">
    <inertial>
      <mass value="0.134356"/>
      <inertia ixx="0.00013479919" ixy="6.184429e-05" ixz="-3.0798e-05" iyy="0.00019602207" iyz="4.707722e-05" izz="0.00024217879"/>
      <origin rpy="0 0 0" xyz="0.019654 0.018572 -0.011998"/>
    </inertial>
    <visual>
      <origin rpy="0 0 0" xyz="0 0 0"/>
      <geometry>
        <mesh filename="package://talos_description/meshes/gripper/gripper_motor_double.dae" scale="1 1 1"/>
      </geometry>
      <material name="Orange"/>
    </visual>
    <collision>
      <origin rpy="0 0 0" xyz="0 0 0"/>
      <geometry>
        <mesh filename="package://talos_description/meshes/gripper/gripper_motor_double_collision.dae" scale="1 1 1"/>
      </geometry>
    </collision>
  </link>
  <joint name="gripper_left_joint" type="fixed">
    <parent link="gripper_left_base_link"/>
    <child link="gripper_left_motor_double_link"/>
    <origin rpy="0.0 0.0 0.0" xyz="0.0 0.02025 -0.03"/>
    <axis xyz="1 0 0"/>
    <limit effort="1.0" lower="-0.959931088597" upper="0.0" velocity="1.0"/>
    <dynamics damping="1.0" friction="1.0"/>
  </joint>
  <link name="gripper_left_inner_double_link">
    <inertial>
      <mass value="0.087986"/>
      <inertia ixx="7.410642e-05" ixy="-7.4773e-07" ixz="1.01536e-06" iyy="0.0001279418" iyz="2.504083e-05" izz="0.00010495175"/>
      <origin rpy="0 0 0" xyz="-0.013283 0.036852 -0.023153"/>
    </inertial>
    <visual>
      <origin rpy="0 0 0" xyz="0 0 0"/>
      <geometry>
        <mesh filename="package://talos_description/meshes/gripper/inner_double.dae" scale="1 1 1"/>
      </geometry>
      <material name="Orange"/>
    </visual>
    <collision>
      <origin rpy="0 0 0" xyz="0 0 0"/>
      <geometry>
        <mesh filename="package://talos_description/meshes/gripper/inner_double_collision.dae" scale="1 1 1"/>
      </geometry>
    </collision>
  </link>
  <joint name="gripper_left_inner_double_joint" type="fixed">
    <parent link="gripper_left_base_link"/>
    <child link="gripper_left_inner_double_link"/>
    <origin rpy="0.0 0.0 0.0" xyz="0.00000 0.00525 -0.05598"/>
    <axis xyz="1 0 0"/>
    <limit effort="100.0" lower="-1.0471975512" upper="0.0" velocity="1.0"/>
    </joint>
  <link name="gripper_left_fingertip_1_link">
    <inertial>
      <mass value="0.026301"/>
      <inertia ixx="8e-06" ixy="0" ixz="0" iyy="8.69179e-06" iyz="-1.43612e-06" izz="2.3082e-06"/>
      <origin rpy="0 0 0" xyz="0 0.004604 -0.002537"/>
    </inertial>
    <visual>
      <origin rpy="0 0 0" xyz="0 0 0"/>
      <geometry>
        <mesh filename="package://talos_description/meshes/gripper/fingertip.dae" scale="1 1 1"/>
      </geometry>
      <material name="Black"/>
    </visual>
    <collision>
      <origin rpy="0 0 0" xyz="0 0 0"/>
      <geometry>
        <mesh filename="package://talos_description/meshes/gripper/fingertip_collision.dae" scale="1 1 1"/>
      </geometry>
    </collision>
  </link>
  <joint name="gripper_left_fingertip_1_joint" type="fixed">
    <parent link="gripper_left_inner_double_link"/>
    <child link="gripper_left_fingertip_1_link"/>
    <origin rpy="0.0 0.0 0.0" xyz="0.03200 0.04589 -0.06553"/>
    <axis xyz="1 0 0"/>
    <limit effort="100.0" lower="0.0" upper="1.0471975512" velocity="1.0"/>
    </joint>
  <link name="gripper_left_fingertip_2_link">
    <inertial>
      <mass value="0.026301"/>
      <inertia ixx="8e-06" ixy="0" ixz="0" iyy="8.69179e-06" iyz="-1.43612e-06" izz="2.3082e-06"/>
      <origin rpy="0 0 0" xyz="0 0.004604 -0.002537"/>
    </inertial>
    <visual>
      <origin rpy="0 0 0" xyz="0 0 0"/>
      <geometry>
        <mesh filename="package://talos_description/meshes/gripper/fingertip.dae" scale="1 1 1"/>
      </geometry>
      <material name="Black"/>
    </visual>
    <collision>
      <origin rpy="0 0 0" xyz="0 0 0"/>
      <geometry>
        <mesh filename="package://talos_description/meshes/gripper/fingertip_collision.dae" scale="1 1 1"/>
      </geometry>
    </collision>
  </link>
  <joint name="gripper_left_fingertip_2_joint" type="fixed">
    <parent link="gripper_left_inner_double_link"/>
    <child link="gripper_left_fingertip_2_link"/>
    <origin rpy="0.0 0.0 0.0" xyz="-0.03200 0.04589 -0.06553"/>
    <axis xyz="1 0 0"/>
    <limit effort="100.0" lower="0.0" upper="1.0471975512" velocity="1.0"/>
    </joint>
  <link name="gripper_left_motor_single_link">
    <inertial>
      <mass value="0.107923"/>
      <inertia ixx="8.973662e-05" ixy="-4.082027e-05" ixz="-1.927099e-05" iyy="0.00011957255" iyz="-2.873284e-05" izz="0.00015469079"/>
      <origin rpy="0 0 0" xyz="0.025237 -0.011231 -0.008158"/>
    </inertial>
    <visual>
      <origin rpy="0 0 0" xyz="0 0 0"/>
      <geometry>
        <mesh filename="package://talos_description/meshes/gripper/gripper_motor_single.dae" scale="1 1 1"/>
      </geometry>
      <material name="Orange"/>
    </visual>
    <collision>
      <origin rpy="0 0 0" xyz="0 0 0"/>
      <geometry>
        <mesh filename="package://talos_description/meshes/gripper/gripper_motor_single_collision.dae" scale="1 1 1"/>
      </geometry>
    </collision>
  </link>
  <joint name="gripper_left_motor_single_joint" type="fixed">
    <parent link="gripper_left_base_link"/>
    <child link="gripper_left_motor_single_link"/>
    <origin rpy="0.0 0.0 0.0" xyz="0.00000 -0.02025 -0.03000"/>
    <axis xyz="1 0 0"/>
    <limit effort="100.0" lower="0.0" upper="1.0471975512" velocity="1.0"/>
  </joint>
  <link name="gripper_left_inner_single_link">
    <inertial>
      <mass value="0.047177"/>
      <inertia ixx="4.199818e-05" ixy="1.3418e-07" ixz="1.9358e-07" iyy="3.231338e-05" iyz="-1.509136e-05" izz="2.168842e-05"/>
      <origin rpy="0 0 0" xyz="0 -0.034565 -0.021412"/>
    </inertial>
    <visual>
      <origin rpy="0 0 0" xyz="0 0 0"/>
      <geometry>
        <mesh filename="package://talos_description/meshes/gripper/inner_single.dae" scale="1 1 1"/>
      </geometry>
      <material name="Orange"/>
    </visual>
    <collision>
      <origin rpy="0 0 0" xyz="0 0 0"/>
      <geometry>
        <mesh filename="package://talos_description/meshes/gripper/inner_single_collision.dae" scale="1 1 1"/>
      </geometry>
    </collision>
  </link>
  <joint name="gripper_left_inner_single_joint" type="fixed">
    <parent link="gripper_left_base_link"/>
    <child link="gripper_left_inner_single_link"/>
    <origin rpy="0.0 0.0 0.0" xyz="0.00000 -0.00525 -0.05598"/>
    <axis xyz="1 0 0"/>
    <limit effort="100.0" lower="0.0" upper="1.0471975512" velocity="1.0"/>
  </joint>
  <link name="gripper_left_fingertip_3_link">
    <inertial>
      <mass value="0.026301"/>
      <inertia ixx="8e-06" ixy="0" ixz="0" iyy="8.69179e-06" iyz="-1.43612e-06" izz="2.3082e-06"/>
      <origin rpy="0 0 0" xyz="0 0.004604 -0.002537"/>
    </inertial>
    <visual>
      <origin rpy="0 0 0" xyz="0 0 0"/>
      <geometry>
        <mesh filename="package://talos_description/meshes/gripper/fingertip.dae" scale="1 1 1"/>
      </geometry>
      <material name="Black"/>
    </visual>
    <collision>
      <origin rpy="0 0 0" xyz="0 0 0"/>
      <geometry>
        <mesh filename="package://talos_description/meshes/gripper/fingertip_collision.dae" scale="1 1 1"/>
      </geometry>
    </collision>
  </link>
  <joint name="gripper_left_fingertip_3_joint" type="fixed">
    <parent link="gripper_left_inner_single_link"/>
    <child link="gripper_left_fingertip_3_link"/>
    <origin rpy="0.0 0.0 3.14159265359" xyz="0.00000 -0.04589 -0.06553"/>
    <axis xyz="1 0 0"/>
    <limit effort="100.0" lower="0.0" upper="1.0471975512" velocity="1.0"/>
    </joint>

  <link name="gripper_right_base_link">
    <inertial>
      <mass value="0.637534"/>
      <inertia ixx="0.0005849692" ixy="4.37159e-06" ixz="-1.2589e-05" iyy="0.00067076439" iyz="2.824361e-05" izz="0.00085526645"/>
      <origin rpy="0 0 0" xyz="2.8e-05 0.005394 -0.023654"/>
    </inertial>
    <visual>
      <origin rpy="0 0 0" xyz="0 0 0"/>
      <geometry>
        <mesh filename="package://talos_description/meshes/gripper/base_link.dae" scale="1 1 1"/>
      </geometry>
      <material name="Black"/>
    </visual>
    <collision>
      <origin rpy="0 0 0" xyz="0 0 0"/>
      <geometry>
        <mesh filename="package://talos_description/meshes/gripper/base_link_collision.dae" scale="1 1 1"/>
      </geometry>
    </collision>
  </link>
  <joint name="gripper_right_base_link_joint" type="fixed">
    <parent link="wrist_right_ft_tool_link"/>
    <child link="gripper_right_base_link"/>
    <origin rpy="0.0 0.0 0.0" xyz="0.00000 0.00000 -0.02875"/>
    <axis xyz="0 0 0"/>
  </joint>
  <link name="gripper_right_motor_double_link">
    <inertial>
      <mass value="0.134356"/>
      <inertia ixx="0.00013479919" ixy="6.184429e-05" ixz="-3.0798e-05" iyy="0.00019602207" iyz="4.707722e-05" izz="0.00024217879"/>
      <origin rpy="0 0 0" xyz="0.019654 0.018572 -0.011998"/>
    </inertial>
    <visual>
      <origin rpy="0 0 0" xyz="0 0 0"/>
      <geometry>
        <mesh filename="package://talos_description/meshes/gripper/gripper_motor_double.dae" scale="1 1 1"/>
      </geometry>
      <material name="Orange"/>
    </visual>
    <collision>
      <origin rpy="0 0 0" xyz="0 0 0"/>
      <geometry>
        <mesh filename="package://talos_description/meshes/gripper/gripper_motor_double_collision.dae" scale="1 1 1"/>
      </geometry>
    </collision>
  </link>
  <joint name="gripper_right_joint" type="fixed">
    <parent link="gripper_right_base_link"/>
    <child link="gripper_right_motor_double_link"/>
    <origin rpy="0.0 0.0 0.0" xyz="0.0 0.02025 -0.03"/>
    <axis xyz="1 0 0"/>
    <limit effort="1.0" lower="-0.959931088597" upper="0.0" velocity="1.0"/>
    <dynamics damping="1.0" friction="1.0"/>
  </joint>
  <link name="gripper_right_inner_double_link">
    <inertial>
      <mass value="0.087986"/>
      <inertia ixx="7.410642e-05" ixy="-7.4773e-07" ixz="1.01536e-06" iyy="0.0001279418" iyz="2.504083e-05" izz="0.00010495175"/>
      <origin rpy="0 0 0" xyz="-0.013283 0.036852 -0.023153"/>
    </inertial>
    <visual>
      <origin rpy="0 0 0" xyz="0 0 0"/>
      <geometry>
        <mesh filename="package://talos_description/meshes/gripper/inner_double.dae" scale="1 1 1"/>
      </geometry>
      <material name="Orange"/>
    </visual>
    <collision>
      <origin rpy="0 0 0" xyz="0 0 0"/>
      <geometry>
        <mesh filename="package://talos_description/meshes/gripper/inner_double_collision.dae" scale="1 1 1"/>
      </geometry>
    </collision>
  </link>
  <joint name="gripper_right_inner_double_joint" type="fixed">
    <parent link="gripper_right_base_link"/>
    <child link="gripper_right_inner_double_link"/>
    <origin rpy="0.0 0.0 0.0" xyz="0.00000 0.00525 -0.05598"/>
    <axis xyz="1 0 0"/>
    <limit effort="100.0" lower="-1.0471975512" upper="0.0" velocity="1.0"/>
  </joint>
  <link name="gripper_right_fingertip_1_link">
    <inertial>
      <mass value="0.026301"/>
      <inertia ixx="8e-06" ixy="0" ixz="0" iyy="8.69179e-06" iyz="-1.43612e-06" izz="2.3082e-06"/>
      <origin rpy="0 0 0" xyz="0 0.004604 -0.002537"/>
    </inertial>
    <visual>
      <origin rpy="0 0 0" xyz="0 0 0"/>
      <geometry>
        <mesh filename="package://talos_description/meshes/gripper/fingertip.dae" scale="1 1 1"/>
      </geometry>
      <material name="Black"/>
    </visual>
    <collision>
      <origin rpy="0 0 0" xyz="0 0 0"/>
      <geometry>
        <mesh filename="package://talos_description/meshes/gripper/fingertip_collision.dae" scale="1 1 1"/>
      </geometry>
    </collision>
  </link>
  <joint name="gripper_right_fingertip_1_joint" type="fixed">
    <parent link="gripper_right_inner_double_link"/>
    <child link="gripper_right_fingertip_1_link"/>
    <origin rpy="0.0 0.0 0.0" xyz="0.03200 0.04589 -0.06553"/>
    <axis xyz="1 0 0"/>
    <limit effort="100.0" lower="0.0" upper="1.0471975512" velocity="1.0"/>
  </joint>
  <link name="gripper_right_fingertip_2_link">
    <inertial>
      <mass value="0.026301"/>
      <inertia ixx="8e-06" ixy="0" ixz="0" iyy="8.69179e-06" iyz="-1.43612e-06" izz="2.3082e-06"/>
      <origin rpy="0 0 0" xyz="0 0.004604 -0.002537"/>
    </inertial>
    <visual>
      <origin rpy="0 0 0" xyz="0 0 0"/>
      <geometry>
        <mesh filename="package://talos_description/meshes/gripper/fingertip.dae" scale="1 1 1"/>
      </geometry>
      <material name="Black"/>
    </visual>
    <collision>
      <origin rpy="0 0 0" xyz="0 0 0"/>
      <geometry>
        <mesh filename="package://talos_description/meshes/gripper/fingertip_collision.dae" scale="1 1 1"/>
      </geometry>
    </collision>
  </link>
  <joint name="gripper_right_fingertip_2_joint" type="fixed">
    <parent link="gripper_right_inner_double_link"/>
    <child link="gripper_right_fingertip_2_link"/>
    <origin rpy="0.0 0.0 0.0" xyz="-0.03200 0.04589 -0.06553"/>
    <axis xyz="1 0 0"/>
    <limit effort="100.0" lower="0.0" upper="1.0471975512" velocity="1.0"/>

  </joint>
  <link name="gripper_right_motor_single_link">
    <inertial>
      <mass value="0.107923"/>
      <inertia ixx="8.973662e-05" ixy="-4.082027e-05" ixz="-1.927099e-05" iyy="0.00011957255" iyz="-2.873284e-05" izz="0.00015469079"/>
      <origin rpy="0 0 0" xyz="0.025237 -0.011231 -0.008158"/>
    </inertial>
    <visual>
      <origin rpy="0 0 0" xyz="0 0 0"/>
      <geometry>
        <mesh filename="package://talos_description/meshes/gripper/gripper_motor_single.dae" scale="1 1 1"/>
      </geometry>
      <material name="Orange"/>
    </visual>
    <collision>
      <origin rpy="0 0 0" xyz="0 0 0"/>
      <geometry>
        <mesh filename="package://talos_description/meshes/gripper/gripper_motor_single_collision.dae" scale="1 1 1"/>
      </geometry>
    </collision>
  </link>
  <joint name="gripper_right_motor_single_joint" type="fixed">
    <parent link="gripper_right_base_link"/>
    <child link="gripper_right_motor_single_link"/>
    <origin rpy="0.0 0.0 0.0" xyz="0.00000 -0.02025 -0.03000"/>
    <axis xyz="1 0 0"/>
    <limit effort="100.0" lower="0.0" upper="1.0471975512" velocity="1.0"/>
  </joint>
  <link name="gripper_right_inner_single_link">
    <inertial>
      <mass value="0.047177"/>
      <inertia ixx="4.199818e-05" ixy="1.3418e-07" ixz="1.9358e-07" iyy="3.231338e-05" iyz="-1.509136e-05" izz="2.168842e-05"/>
      <origin rpy="0 0 0" xyz="0 -0.034565 -0.021412"/>
    </inertial>
    <visual>
      <origin rpy="0 0 0" xyz="0 0 0"/>
      <geometry>
        <mesh filename="package://talos_description/meshes/gripper/inner_single.dae" scale="1 1 1"/>
      </geometry>
      <material name="Orange"/>
    </visual>
    <collision>
      <origin rpy="0 0 0" xyz="0 0 0"/>
      <geometry>
        <mesh filename="package://talos_description/meshes/gripper/inner_single_collision.dae" scale="1 1 1"/>
      </geometry>
    </collision>
  </link>
  <joint name="gripper_right_inner_single_joint" type="fixed">
    <parent link="gripper_right_base_link"/>
    <child link="gripper_right_inner_single_link"/>
    <origin rpy="0.0 0.0 0.0" xyz="0.00000 -0.00525 -0.05598"/>
    <axis xyz="1 0 0"/>
    <limit effort="100.0" lower="0.0" upper="1.0471975512" velocity="1.0"/>
  </joint>
  <link name="gripper_right_fingertip_3_link">
    <inertial>
      <mass value="0.026301"/>
      <inertia ixx="8e-06" ixy="0" ixz="0" iyy="8.69179e-06" iyz="-1.43612e-06" izz="2.3082e-06"/>
      <origin rpy="0 0 0" xyz="0 0.004604 -0.002537"/>
    </inertial>
    <visual>
      <origin rpy="0 0 0" xyz="0 0 0"/>
      <geometry>
        <mesh filename="package://talos_description/meshes/gripper/fingertip.dae" scale="1 1 1"/>
      </geometry>
      <material name="Black"/>
    </visual>
    <collision>
      <origin rpy="0 0 0" xyz="0 0 0"/>
      <geometry>
        <mesh filename="package://talos_description/meshes/gripper/fingertip_collision.dae" scale="1 1 1"/>
      </geometry>
    </collision>
  </link>
  <joint name="gripper_right_fingertip_3_joint" type="fixed">
    <parent link="gripper_right_inner_single_link"/>
    <child link="gripper_right_fingertip_3_link"/>
    <origin rpy="0.0 0.0 3.14159265359" xyz="0.00000 -0.04589 -0.06553"/>
    <axis xyz="1 0 0"/>
    <limit effort="100.0" lower="0.0" upper="1.0471975512" velocity="1.0"/>
</joint>
  <!-- Joint hip_z (mesh link) : child link hip_x -> parent link base_link -->
  <link name="leg_left_1_link">
    <inertial>
      <mass value="1.845591"/>
      <inertia ixx="0.00541533521" ixy="-0.00015428714" ixz="0.00131612622" iyy="0.00848624936" iyz="-1.906103e-05" izz="0.00474512541"/>
      <origin rpy="0 0 0" xyz="0.02247868 0.00106736 0.03130665"/>
    </inertial>
    <visual>
      <origin rpy="0 0 0" xyz="0 0 0"/>
      <geometry>
        <mesh filename="package://talos_description/meshes/v2/hip_z_lo_res.dae" scale="1 1 1"/>
      </geometry>
      <material name="DarkGrey"/>
    </visual>
    <collision>
      <origin rpy="0 0 0" xyz="0 0 0"/>
      <geometry>
        <mesh filename="package://talos_description/meshes/v2/hip_z_collision.dae" scale="1 1 1"/>
      </geometry>
    </collision>
  </link>
  <joint name="leg_left_1_joint" type="revolute">
    <parent link="base_link"/>
    <child link="leg_left_1_link"/>
    <origin rpy="0.0 0.0 0.0" xyz="-0.02 0.085 -0.27105"/>
    <axis xyz="0 0 1"/>
    <limit effort="100" lower="-0.349065850399" upper="1.57079632679" velocity="3.87"/>
    <dynamics damping="0.0" friction="0.0"/>
  </joint>
  <!-- Joint hip_x (mesh link) : child link hip_y -> parent link hip_z -->
  <link name="leg_left_2_link">
    <inertial>
      <mass value="1.490952"/>
      <inertia ixx="0.00497152259" ixy="-0.0001311358" ixz="-4.86648e-06" iyy="0.00190550993" iyz="4.585381e-05" izz="0.00474289754"/>
      <origin rpy="0 0 0" xyz="-0.00704703 0.02592659 0.00273385"/>
    </inertial>
    <visual>
      <origin rpy="0  0  0" xyz="0 0 0.0"/>
      <geometry>
        <mesh filename="package://talos_description/meshes/v2/hip_x_lo_res.dae" scale="1 1 1"/>
      </geometry>
      <material name="DarkGrey"/>
    </visual>
    <collision>
      <origin rpy="0  0  0" xyz="0 0 0.0"/>
      <geometry>
        <mesh filename="package://talos_description/meshes/v2/hip_x_collision.dae" scale="1 1 1"/>
      </geometry>
    </collision>
  </link>
  <joint name="leg_left_2_joint" type="revolute">
    <parent link="leg_left_1_link"/>
    <child link="leg_left_2_link"/>
    <origin rpy="0.0 0.0 0.0" xyz="0.00000 0.00000 0.00000"/>
    <axis xyz="1 0 0"/>
    <limit effort="160" lower="-0.5236" upper="0.5236" velocity="5.8"/>
    <dynamics damping="0.0" friction="0.0"/>
  </joint>
  <!-- Joint hip_y (mesh link) : child link knee -> parent link hip_x -->
  <link name="leg_left_3_link">
    <inertial>
      <mass value="6.239871"/>
      <inertia ixx="0.15337403915" ixy="0.00068913396" ixz="0.00168034366" iyy="0.13648139346" iyz="-0.02187635445" izz="0.03001594885"/>
      <origin rpy="0 0 0" xyz="0.0058523 0.0636967 -0.18339564"/>
    </inertial>
    <visual>
      <origin rpy="0 0 0" xyz="0 0 0"/>
      <geometry>
        <mesh filename="package://talos_description/meshes/v2/hip_y_lo_res.dae" scale="1 1 1"/>
      </geometry>
      <material name="DarkGrey"/>
    </visual>
    <collision>
      <origin rpy="0 0 0" xyz="0 0 0"/>
      <geometry>
        <mesh filename="package://talos_description/meshes/v2/hip_y_collision.dae" scale="1 1 1"/>
      </geometry>
    </collision>
  </link>
  <joint name="leg_left_3_joint" type="revolute">
    <parent link="leg_left_2_link"/>
    <child link="leg_left_3_link"/>
    <origin rpy="0.0 0.0 0.0" xyz="0.00000 0.00000 0.00000"/>
    <axis xyz="0 1 0"/>
    <limit effort="160" lower="-2.095" upper="0.7" velocity="5.8"/>
    <dynamics damping="0.0" friction="0.0"/>
  </joint>
  <!-- Joint knee (mesh link) : child link ankle_y -> parent link hip_y -->
  <link name="leg_left_4_link">
    <inertial>
      <mass value="3.759951"/>
      <inertia ixx="0.04287677484" ixy="0.00043705397" ixz="0.00078292368" iyy="0.03598906971" iyz="0.00037717694" izz="0.01364791564"/>
      <origin rpy="0 0 0" xyz="0.01317717 0.02917508 -0.11594602"/>
    </inertial>
    <visual>
      <origin rpy="0 0 0" xyz="0 0 0"/>
      <geometry>
        <mesh filename="package://talos_description/meshes/v2/knee_lo_res.dae" scale="1 1 1"/>
      </geometry>
      <material name="DarkGrey"/>
    </visual>
    <collision>
      <origin rpy="0 0 0" xyz="0 0 0"/>
      <geometry>
        <mesh filename="package://talos_description/meshes/v2/knee_collision.dae" scale="1 1 1"/>
      </geometry>
    </collision>
  </link>
  <joint name="leg_left_4_joint" type="revolute">
    <parent link="leg_left_3_link"/>
    <child link="leg_left_4_link"/>
    <origin rpy="0.0 0.0 0.0" xyz="0.00000 0.00000 -0.38000"/>
    <axis xyz="0 1 0"/>
    <limit effort="300" lower="0" upper="2.618" velocity="7"/>
    <dynamics damping="0.0" friction="0.0"/>
  </joint>
  <!-- Joint ankle_y (mesh link) : child link ankle_x -> parent link knee -->
  <link name="leg_left_5_link">
    <inertial>
      <mass value="1.29096"/>
      <inertia ixx="0.01143430819" ixy="0.00096978273" ixz="0.00039976581" iyy="0.00888974312" iyz="-0.00277808667" izz="0.00506373875"/>
      <origin rpy="0 0 0" xyz="-0.01400838 0.04180064 0.03820186"/>
    </inertial>
    <visual>
      <origin rpy="0 0 0" xyz="0 0 0.0"/>
      <geometry>
        <mesh filename="package://talos_description/meshes/v2/ankle_Y_lo_res.dae" scale="1 1 1"/>
      </geometry>
      <material name="Grey"/>
    </visual>
    <collision>
      <origin rpy="0 0 0" xyz="0 0 0.0"/>
      <geometry>
        <mesh filename="package://talos_description/meshes/v2/ankle_Y_collision.dae" scale="1 1 1"/>
      </geometry>
    </collision>
  </link>
  <joint name="leg_left_5_joint" type="revolute">
    <parent link="leg_left_4_link"/>
    <child link="leg_left_5_link"/>
    <origin rpy="0.0 0.0 0.0" xyz="0.00000 0.00000 -0.32500"/>
    <axis xyz="0 1 0"/>
    <limit effort="160" lower="-1.27" upper="0.68" velocity="5.8"/>
    <dynamics damping="0.0" friction="0.0"/>
  </joint>
  <!-- Joint ankle_x (mesh link) : child link None -> parent link ankle_y -->
  <link name="leg_left_6_link">
    <inertial>
      <mass value="1.597773"/>
      <inertia ixx="0.00439027267" ixy="-6.743674e-05" ixz="0.00113816363" iyy="0.00743063029" iyz="3.943143e-05" izz="0.00550906699"/>
      <origin rpy="0 0 0" xyz="-0.02034668 -0.00051514 -0.05987428"/>
    </inertial>
    <visual>
      <origin rpy="0 0 0" xyz="0 0 0.0"/>
      <geometry>
        <mesh filename="package://talos_description/meshes/v2/ankle_X_lo_res.dae" scale="1 1 1"/>
      </geometry>
      <!-- <geometry>
        <box size="0.20 0.1 0.2"/>
      </geometry> -->
      <material name="Grey"/>
    </visual>
    <collision>
      <origin rpy="0.0 0.03 0" xyz="0 0 0.0"/>
      <geometry>
        <box size="0.20 0.1 0.2"/>
      </geometry>
    </collision>
  </link>
  <joint name="leg_left_6_joint" type="revolute">
    <parent link="leg_left_5_link"/>
    <child link="leg_left_6_link"/>
    <origin rpy="0.0 0.0 0.0" xyz="0.00000 0.00000 0.00000"/>
    <axis xyz="1 0 0"/>
    <limit effort="100" lower="-0.5236" upper="0.5236" velocity="4.8"/>
    <dynamics damping="0.0" friction="0.0"/>
  </joint>
  <!-- from here is copy paste -->
  <link name="left_sole_link">
    <inertial>
      <mass value="0.01"/>
      <inertia ixx="0.0001" ixy="0" ixz="0" iyy="0.0001" iyz="0" izz="0.0001"/>
      <origin rpy="0 0 0" xyz="0 0 0"/>
    </inertial>
  </link>
  <joint name="leg_left_sole_fix_joint" type="fixed">
    <parent link="leg_left_6_link"/>
    <child link="left_sole_link"/>
    <origin rpy="0 0 0" xyz="0.00 0.00 -0.107"/>
    <axis xyz="1 0 0"/>
    <dynamics damping="0.0" friction="0.0"/>
  </joint>











  <!-- contact model for foot surface -->













  <!-- Joint hip_z (mesh link) : child link hip_x -> parent link base_link -->
  <link name="leg_right_1_link">
    <inertial>
      <mass value="1.845591"/>
      <inertia ixx="0.00541533521" ixy="0.00015428714" ixz="0.00131612622" iyy="0.00848624936" iyz="1.906103e-05" izz="0.00474512541"/>
      <origin rpy="0 0 0" xyz="0.02247868 -0.00106736 0.03130665"/>
    </inertial>
    <visual>
      <origin rpy="0 0 0" xyz="0 0 0"/>
      <geometry>
        <mesh filename="package://talos_description/meshes/v2/hip_z_lo_res.dae" scale="1 -1 1"/>
      </geometry>
      <material name="DarkGrey"/>
    </visual>
    <collision>
      <origin rpy="0 0 0" xyz="0 0 0"/>
      <geometry>
        <mesh filename="package://talos_description/meshes/v2/hip_z_collision.dae" scale="1 -1 1"/>
      </geometry>
    </collision>
  </link>
  <joint name="leg_right_1_joint" type="revolute">
    <parent link="base_link"/>
    <child link="leg_right_1_link"/>
    <origin rpy="0.0 0.0 0.0" xyz="-0.02 -0.085 -0.27105"/>
    <axis xyz="0 0 1"/>
    <limit effort="100" lower="-1.57079632679" upper="0.349065850399" velocity="3.87"/>
    <dynamics damping="0.0" friction="0.0"/>
  </joint>
  <!-- Joint hip_x (mesh link) : child link hip_y -> parent link hip_z -->
  <link name="leg_right_2_link">
    <inertial>
      <mass value="1.490952"/>
      <inertia ixx="0.00497152259" ixy="0.0001311358" ixz="-4.86648e-06" iyy="0.00190550993" iyz="-4.585381e-05" izz="0.00474289754"/>
      <origin rpy="0 0 0" xyz="-0.00704703 -0.02592659 0.00273385"/>
    </inertial>
    <visual>
      <origin rpy="0  0  0" xyz="0 0 0.0"/>
      <geometry>
        <mesh filename="package://talos_description/meshes/v2/hip_x_lo_res.dae" scale="1 -1 1"/>
      </geometry>
      <material name="DarkGrey"/>
    </visual>
    <collision>
      <origin rpy="0  0  0" xyz="0 0 0.0"/>
      <geometry>
        <mesh filename="package://talos_description/meshes/v2/hip_x_collision.dae" scale="1 -1 1"/>
      </geometry>
    </collision>
  </link>
  <joint name="leg_right_2_joint" type="revolute">
    <parent link="leg_right_1_link"/>
    <child link="leg_right_2_link"/>
    <origin rpy="0.0 0.0 0.0" xyz="0.00000 0.00000 0.00000"/>
    <axis xyz="1 0 0"/>
    <limit effort="160" lower="-0.5236" upper="0.5236" velocity="5.8"/>
    <dynamics damping="0.0" friction="0.0"/>
  </joint>
  <!-- Joint hip_y (mesh link) : child link knee -> parent link hip_x -->
  <link name="leg_right_3_link">
    <inertial>
      <mass value="6.239871"/>
      <inertia ixx="0.15337403915" ixy="-0.00068913396" ixz="0.00168034366" iyy="0.13648139346" iyz="0.02187635445" izz="0.03001594885"/>
      <origin rpy="0 0 0" xyz="0.0058523 -0.0636967 -0.18339564"/>
    </inertial>
    <visual>
      <origin rpy="0 0 0" xyz="0 0 0"/>
      <geometry>
        <mesh filename="package://talos_description/meshes/v2/hip_y_lo_res.dae" scale="1 -1 1"/>
      </geometry>
      <material name="DarkGrey"/>
    </visual>
    <collision>
      <origin rpy="0 0 0" xyz="0 0 0"/>
      <geometry>
        <mesh filename="package://talos_description/meshes/v2/hip_y_collision.dae" scale="1 -1 1"/>
      </geometry>
    </collision>
  </link>
  <joint name="leg_right_3_joint" type="revolute">
    <parent link="leg_right_2_link"/>
    <child link="leg_right_3_link"/>
    <origin rpy="0.0 0.0 0.0" xyz="0.00000 0.00000 0.00000"/>
    <axis xyz="0 1 0"/>
    <limit effort="160" lower="-2.095" upper="0.7" velocity="5.8"/>
    <dynamics damping="0.0" friction="0.0"/>
  </joint>
  <!-- Joint knee (mesh link) : child link ankle_y -> parent link hip_y -->
  <link name="leg_right_4_link">
    <inertial>
      <mass value="3.759951"/>
      <inertia ixx="0.04287677484" ixy="-0.00043705397" ixz="0.00078292368" iyy="0.03598906971" iyz="-0.00037717694" izz="0.01364791564"/>
      <origin rpy="0 0 0" xyz="0.01317717 -0.02917508 -0.11594602"/>
    </inertial>
    <visual>
      <origin rpy="0 0 0" xyz="0 0 0"/>
      <geometry>
        <mesh filename="package://talos_description/meshes/v2/knee_lo_res.dae" scale="1 -1 1"/>
      </geometry>
      <material name="DarkGrey"/>
    </visual>
    <collision>
      <origin rpy="0 0 0" xyz="0 0 0"/>
      <geometry>
        <mesh filename="package://talos_description/meshes/v2/knee_collision.dae" scale="1 -1 1"/>
      </geometry>
    </collision>
  </link>
  <joint name="leg_right_4_joint" type="revolute">
    <parent link="leg_right_3_link"/>
    <child link="leg_right_4_link"/>
    <origin rpy="0.0 0.0 0.0" xyz="0.00000 0.00000 -0.38000"/>
    <axis xyz="0 1 0"/>
    <limit effort="300" lower="0" upper="2.618" velocity="7"/>
    <dynamics damping="0.0" friction="0.0"/>
  </joint>
  <!-- Joint ankle_y (mesh link) : child link ankle_x -> parent link knee -->
  <link name="leg_right_5_link">
    <inertial>
      <mass value="1.29096"/>
      <inertia ixx="0.01143430819" ixy="-0.00096978273" ixz="0.00039976581" iyy="0.00888974312" iyz="0.00277808667" izz="0.00506373875"/>
      <origin rpy="0 0 0" xyz="-0.01400838 -0.04180064 0.03820186"/>
    </inertial>
    <visual>
      <origin rpy="0 0 0" xyz="0 0 0.0"/>
      <geometry>
        <mesh filename="package://talos_description/meshes/v2/ankle_Y_lo_res.dae" scale="1 -1 1"/>
      </geometry>
      <material name="Grey"/>
    </visual>
    <collision>
      <origin rpy="0 0 0" xyz="0 0 0.0"/>
      <geometry>
        <mesh filename="package://talos_description/meshes/v2/ankle_Y_collision.dae" scale="1 -1 1"/>
      </geometry>
    </collision>
  </link>
  <joint name="leg_right_5_joint" type="revolute">
    <parent link="leg_right_4_link"/>
    <child link="leg_right_5_link"/>
    <origin rpy="0.0 0.0 0.0" xyz="0.00000 0.00000 -0.32500"/>
    <axis xyz="0 1 0"/>
    <limit effort="160" lower="-1.27" upper="0.68" velocity="5.8"/>
    <dynamics damping="0.0" friction="0.0"/>
  </joint>
  <!-- Joint ankle_x (mesh link) : child link None -> parent link ankle_y -->
  <link name="leg_right_6_link">
    <inertial>
      <mass value="1.597773"/>
      <inertia ixx="0.00439027267" ixy="6.743674e-05" ixz="0.00113816363" iyy="0.00743063029" iyz="-3.943143e-05" izz="0.00550906699"/>
      <origin rpy="0 0 0" xyz="-0.02034668 0.00051514 -0.05987428"/>
    </inertial>
    <visual>
      <origin rpy="0 0 0" xyz="0 0 0.0"/>
      <geometry>
        <mesh filename="package://talos_description/meshes/v2/ankle_X_lo_res.dae" scale="1 -1 1"/>
      </geometry>
      <!-- <geometry>
        <box size="0.20 0.1 0.2"/>
      </geometry> -->
      <material name="Grey"/>
    </visual>
    <collision>
      <origin rpy="0.0 0.03 0" xyz="0 0 0.0"/>
      <geometry>
        <box size="0.20 0.1 0.2"/>
      </geometry>
    </collision>
  </link>
  <joint name="leg_right_6_joint" type="revolute">
    <parent link="leg_right_5_link"/>
    <child link="leg_right_6_link"/>
    <origin rpy="0.0 0.0 0.0" xyz="0.00000 0.00000 0.00000"/>
    <axis xyz="1 0 0"/>
    <limit effort="100" lower="-0.5236" upper="0.5236" velocity="4.8"/>
    <dynamics damping="0.0" friction="0.0"/>
  </joint>
  <!-- from here is copy paste -->
  <link name="right_sole_link">
    <inertial>
      <mass value="0.01"/>
      <inertia ixx="0.0001" ixy="0" ixz="0" iyy="0.0001" iyz="0" izz="0.0001"/>
      <origin rpy="0 0 0" xyz="0 0 0"/>
    </inertial>
  </link>
  <joint name="leg_right_sole_fix_joint" type="fixed">
    <parent link="leg_right_6_link"/>
    <child link="right_sole_link"/>
    <origin rpy="0 0 0" xyz="0.00 0.00 -0.107"/>
    <axis xyz="1 0 0"/>
    <dynamics damping="0.0" friction="0.0"/>
  </joint>

  <!-- foot contact points -->
    <link name="fl_left_foot">
     <inertial>
       <origin xyz="0 0 0"/>
       <mass value="0.000001"/>
       <inertia ixx="1" ixy="0" ixz="0" iyy="1" iyz="0" izz="1"/>
     </inertial>
    </link>
    <joint name="fl_left_foot_contact" type="fixed">
       <origin rpy="0 0 0 " xyz="0.1 0.05 0.01525"/>
       <child link="fl_left_foot"/>
       <parent link="left_sole_link"/>
       <axis use_parent_model_frame="1" xyz="0 0 0"/>
       <limit effort="10000" lower="0" upper="0" velocity="0"/>
       <dynamics damping="0" friction="0" spring_reference="0" spring_stiffness="0"/>
    </joint>

    <link name="fr_left_foot">
     <inertial>
       <origin xyz="0 0 0"/>
       <mass value="0.000001"/>
       <inertia ixx="1" ixy="0" ixz="0" iyy="1" iyz="0" izz="1"/>
     </inertial>
    </link>
    <joint name="fr_left_foot_contact" type="fixed">
       <origin rpy="0 0 0 " xyz="0.1 -0.05 0.01525"/>
       <child link="fr_left_foot"/>
       <parent link="leg_left_6_link"/>
       <axis use_parent_model_frame="1" xyz="0 0 0"/>
       <limit effort="10000" lower="0" upper="0" velocity="0"/>
       <dynamics damping="0" friction="0" spring_reference="0" spring_stiffness="0"/>
    </joint>

    <link name="bl_left_foot">
      <inertial>
        <origin xyz="0 0 0"/>
        <mass value="0.000001"/>
        <inertia ixx="0.000001" ixy="0.000001" ixz="0.000001" iyy="0.000001" iyz="0.000001" izz="0.000001"/>
      </inertial>
    </link>
    <joint name="bl_left_foot_contact" type="fixed">
      <origin rpy="0 0 0 " xyz="-0.1 0.05 0.01525"/>
      <child link="bl_left_foot"/>
      <parent link="leg_left_6_link"/>
      <axis use_parent_model_frame="1" xyz="0 0 0"/>
      <dynamics damping="0" friction="0" spring_reference="0" spring_stiffness="0"/>
    </joint>

    <link name="br_left_foot">
      <inertial>
        <origin xyz="0 0 0"/>
        <mass value="0.000001"/>
        <inertia ixx="0.000001" ixy="0.000001" ixz="0.000001" iyy="0.000001" iyz="0.000001" izz="0.000001"/>
      </inertial>
    </link>
    <joint name="br_left_foot_contact" type="fixed">
      <origin rpy="0 0 0 " xyz="-0.1 -0.05 0.01525"/>
      <child link="br_left_foot"/>
      <parent link="leg_left_6_link"/>
      <axis use_parent_model_frame="1" xyz="0 0 0"/>
      <dynamics damping="0" friction="0" spring_reference="0" spring_stiffness="0"/>
    </joint>

    <link name="fl_right_foot">
      <inertial>
        <origin xyz="0 0 0"/>
        <mass value="0.000001"/>
        <inertia ixx="0.000001" ixy="0.000001" ixz="0.000001" iyy="0.000001" iyz="0.000001" izz="0.000001"/>
      </inertial>
    </link>
    <joint name="fl_right_foot_contact" type="fixed">
     <origin rpy="0 0 0 " xyz="0.1 0.05 0.01525"/>
     <child link="fl_right_foot"/>
     <parent link="leg_right_6_link"/>
     <axis use_parent_model_frame="1" xyz="0 0 0"/>
     <dynamics damping="0" friction="0" spring_reference="0" spring_stiffness="0"/>
    </joint>

    <link name="fr_right_foot">
      <inertial>
        <origin xyz="0 0 0"/>
        <mass value="0.000001"/>
        <inertia ixx="0.000001" ixy="0.000001" ixz="0.000001" iyy="0.000001" iyz="0.000001" izz="0.000001"/>
      </inertial>
    </link>
    <joint name="fr_right_foot_contact" type="fixed">
     <origin rpy="0 0 0 " xyz="0.1 -0.05 0.01525"/>
     <child link="fr_right_foot"/>
     <parent link="leg_right_6_link"/>
     <axis use_parent_model_frame="1" xyz="0 0 0"/>
     <dynamics damping="0" friction="0" spring_reference="0" spring_stiffness="0"/>
   </joint>

   <link name="bl_right_foot">
     <inertial>
       <origin xyz="0 0 0"/>
       <mass value="0.000001"/>
       <inertia ixx="0.000001" ixy="0.000001" ixz="0.000001" iyy="0.000001" iyz="0.000001" izz="0.000001"/>
     </inertial>
   </link>
   <joint name="bl_right_foot_contact" type="fixed">
     <origin rpy="0 0 0 " xyz="-0.1 0.05 0.01525"/>
     <child link="bl_right_foot"/>
     <parent link="leg_right_6_link"/>
     <axis use_parent_model_frame="1" xyz="0 0 0"/>
     <dynamics damping="0" friction="0" spring_reference="0" spring_stiffness="0"/>
   </joint>

     <link name="br_right_foot">
       <inertial>
         <origin xyz="0 0 0"/>
         <mass value="0.000001"/>
         <inertia ixx="0.000001" ixy="0.000001" ixz="0.000001" iyy="0.000001" iyz="0.000001" izz="0.000001"/>
       </inertial>
     </link>
     <joint name="br_right_foot_contact" type="fixed">
       <origin rpy="0 0 0 " xyz="-0.1 -0.05 0.01525"/>
       <child link="br_right_foot"/>
       <parent link="leg_right_6_link"/>
       <axis use_parent_model_frame="1" xyz="0 0 0"/>
       <dynamics damping="0" friction="0" spring_reference="0" spring_stiffness="0"/>
     </joint>









  <!-- contact model for foot surface -->

















  <!-- define global properties -->
  <!-- <xacro:property name="M_PI" value="3.1415926535897931" /> -->
  <material name="Blue">
    <color rgba="0.0 0.0 0.8 1.0"/>
  </material>
  <material name="Green">
    <color rgba="0.0 0.8 0.0 1.0"/>
  </material>
  <material name="Grey">
    <color rgba="0.7 0.7 0.7 1.0"/>
  </material>
  <material name="LightGrey">
    <color rgba="0.9 0.9 0.9 1.0"/>
  </material>
  <material name="DarkGrey">
    <color rgba="0.2 0.2 0.2 1.0"/>
  </material>
  <material name="Red">
    <color rgba="0.8 0.0 0.0 1.0"/>
  </material>
  <material name="White">
    <color rgba="1.0 1.0 1.0 1.0"/>
  </material>
  <material name="Orange">
    <color rgba="1.0 0.5 0.0 1.0"/>
  </material>
</robot>
